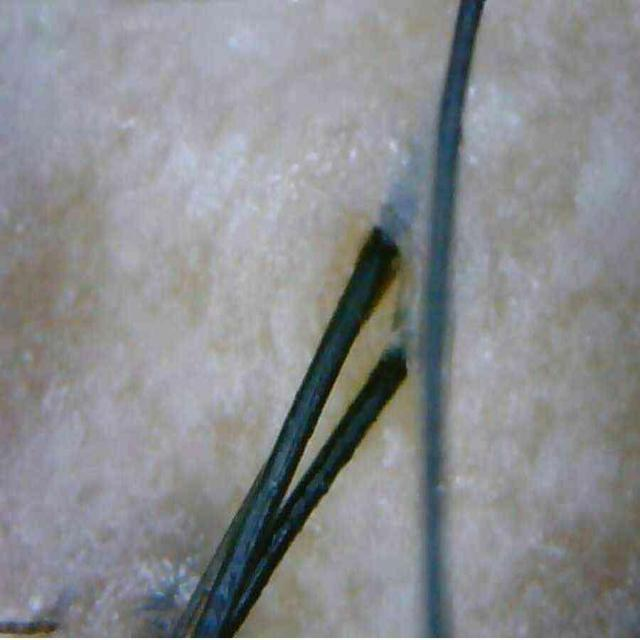o: (288, 115, 421, 202), (112, 557, 201, 635)
